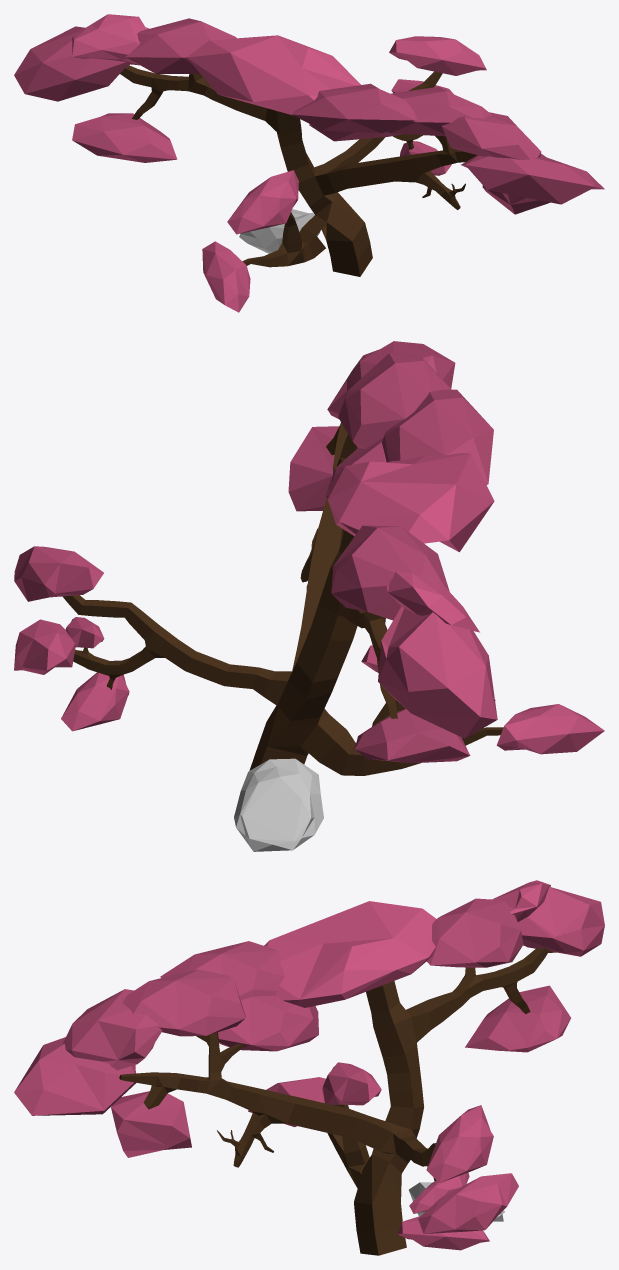
Rendered from sakura-main1.fbx.
The picture shows the model from 3 angles, top to bottom: view 1: azimuth 30°, elevation 25°; view 2: azimuth 150°, elevation 25°; view 3: azimuth 270°, elevation 25°; orthographic projection. The views are drawn at different scales.
Parts seen in each view (by area): view 1: Куб.009, Икосфера.059, Икосфера.051, Икосфера.060, Икосфера.063, Икосфера.058, Икосфера.050, Икосфера.061, Икосфера.064, Икосфера.053, Икосфера.052, Икосфера.049 (+5 smaller); view 2: Куб.009, Икосфера.059, Икосфера.051, Икосфера.032, Икосфера.050, Икосфера.053, Икосфера.063, Икосфера.058, Икосфера.065, Икосфера.049, Икосфера.062, Икосфера.052 (+5 smaller); view 3: Куб.009, Икосфера.059, Икосфера.060, Икосфера.053, Икосфера.050, Икосфера.061, Икосфера.058, Икосфера.051, Икосфера.054, Икосфера.062, Икосфера.055, Икосфера.063 (+6 smaller).
Boxes of the visible parts, box(x1,y1,x2,y2) form: Куб.009: box(120, 65, 477, 276); Икосфера.059: box(187, 35, 360, 115); Икосфера.051: box(14, 26, 129, 101); Икосфера.060: box(461, 153, 604, 204); Икосфера.063: box(291, 83, 417, 133); Икосфера.058: box(72, 113, 177, 162); Икосфера.050: box(125, 18, 236, 73); Икосфера.061: box(442, 112, 541, 159); Икосфера.064: box(227, 170, 298, 234); Икосфера.053: box(387, 86, 491, 136); Икосфера.052: box(72, 14, 149, 65); Икосфера.049: box(389, 36, 486, 75); Куб.009: box(62, 422, 503, 775); Икосфера.059: box(327, 453, 494, 552); Икосфера.051: box(378, 607, 497, 738); Икосфера.032: box(234, 758, 323, 851); Икосфера.050: box(331, 525, 449, 620); Икосфера.053: box(338, 353, 451, 448); Икосфера.063: box(382, 389, 493, 484); Икосфера.058: box(355, 709, 470, 763); Икосфера.065: box(496, 704, 604, 754); Икосфера.049: box(14, 546, 103, 601); Икосфера.062: box(288, 426, 358, 511); Икосфера.052: box(386, 571, 479, 632); Куб.009: box(119, 947, 556, 1255); Икосфера.059: box(264, 901, 436, 1007); Икосфера.060: box(14, 1037, 135, 1115); Икосфера.053: box(122, 969, 245, 1036); Икосфера.050: box(427, 898, 523, 967); Икосфера.061: box(63, 989, 162, 1070); Икосфера.058: box(465, 985, 570, 1052); Икосфера.051: box(518, 886, 604, 956); Икосфера.054: box(218, 995, 318, 1051); Икосфера.062: box(111, 1091, 191, 1157); Икосфера.055: box(418, 1173, 518, 1233); Икосфера.063: box(160, 941, 284, 1000).
Bounding box in the file's own units: 1021 × 607 × 1146.
